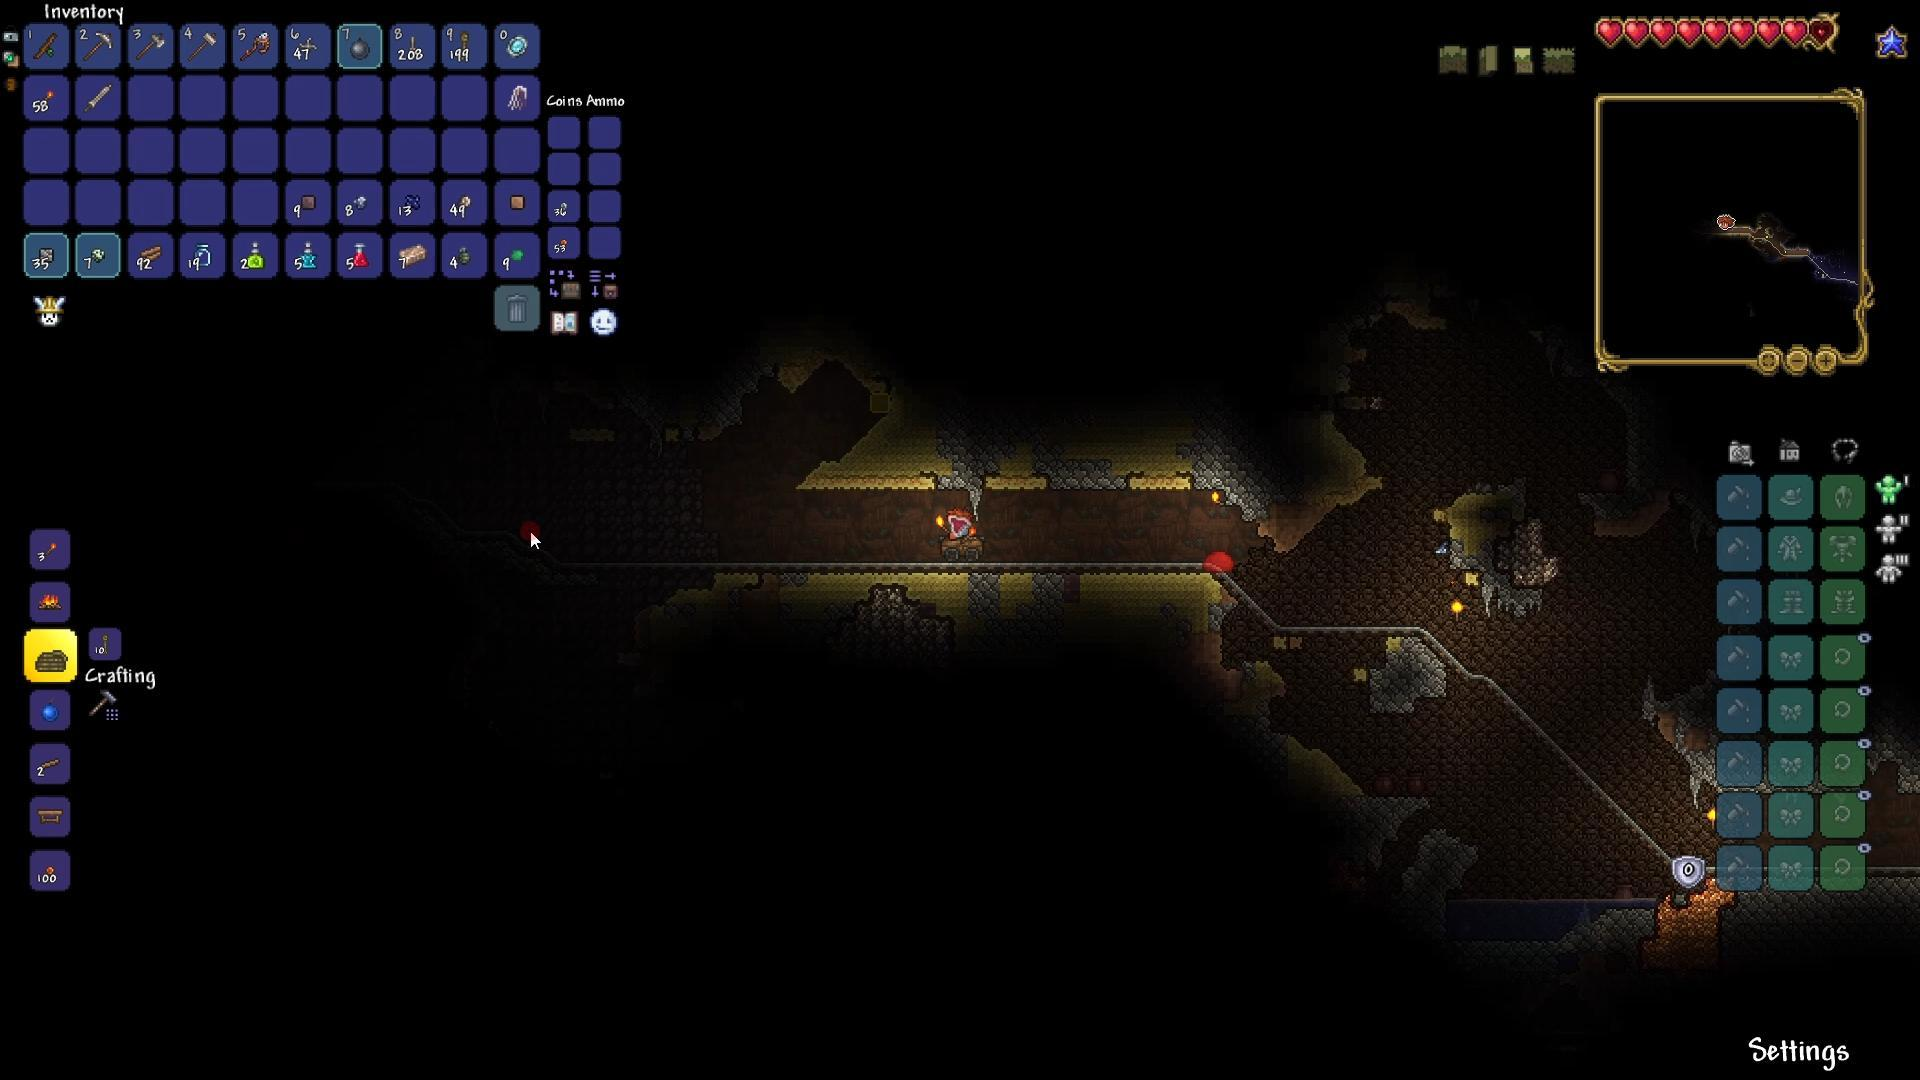sand: (794, 411, 955, 497), (1073, 564, 1217, 612), (800, 567, 971, 585), (1433, 488, 1495, 534), (1130, 450, 1192, 492), (709, 570, 761, 592), (996, 570, 1033, 588)
